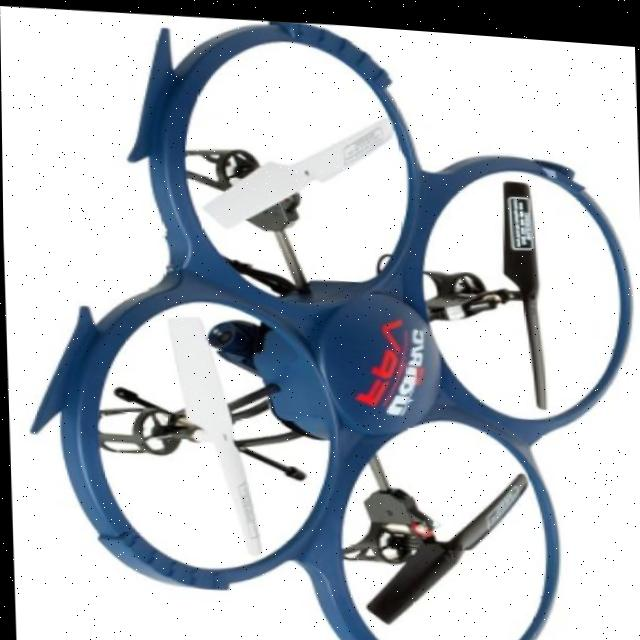drones: (23, 1, 637, 640)
